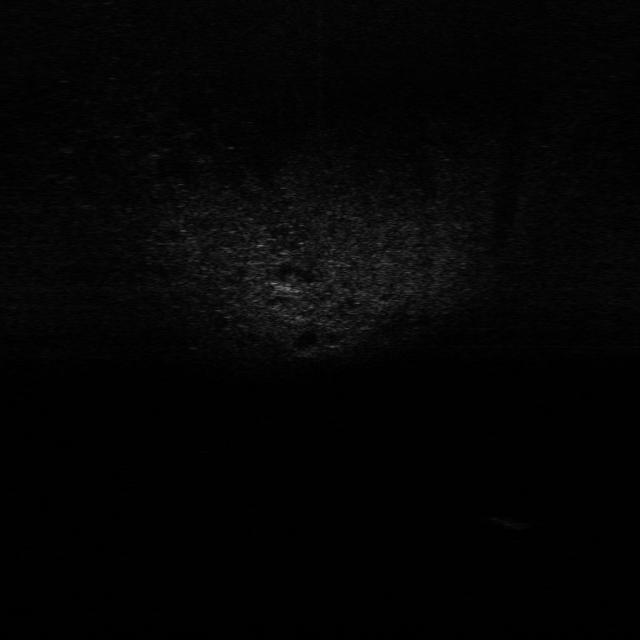cylinder: (490, 512, 534, 532)
